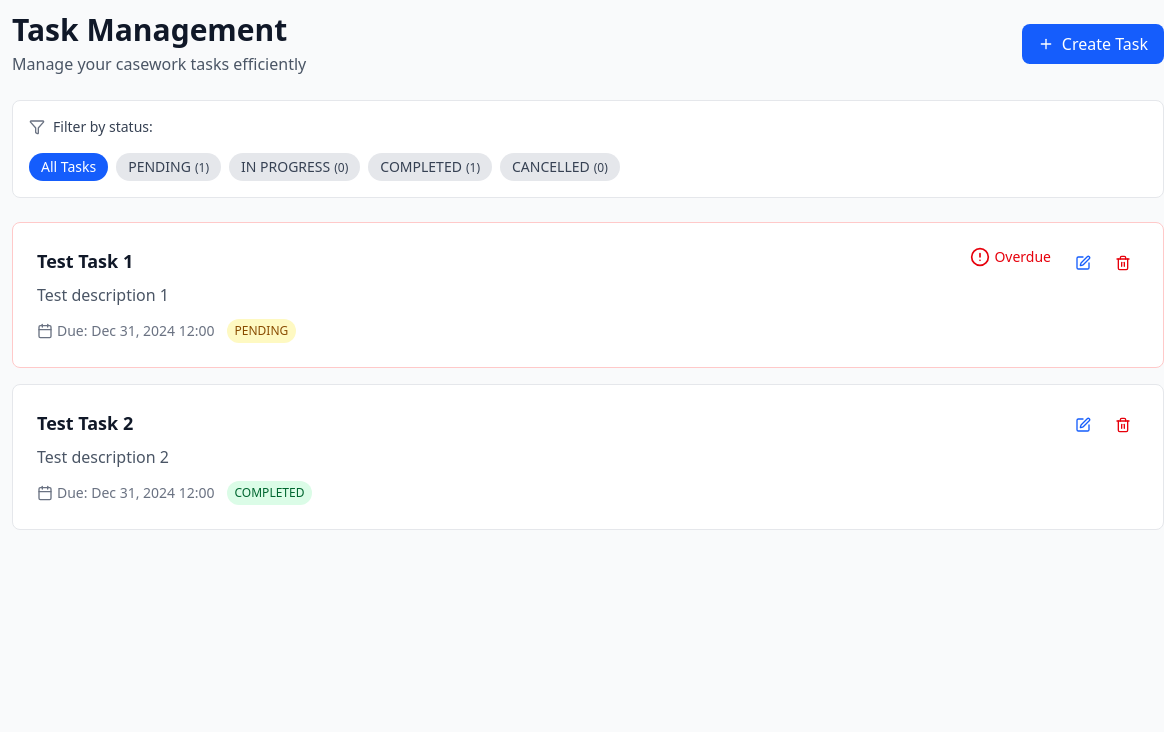
TaskList › filters tasks by status
The image size is (1164, 732).
Expected: the heading "Test Task 1" is shown, [37,247,133,275]
Click the button "COMPLETED(1)": (430, 167) [368,153,492,181]
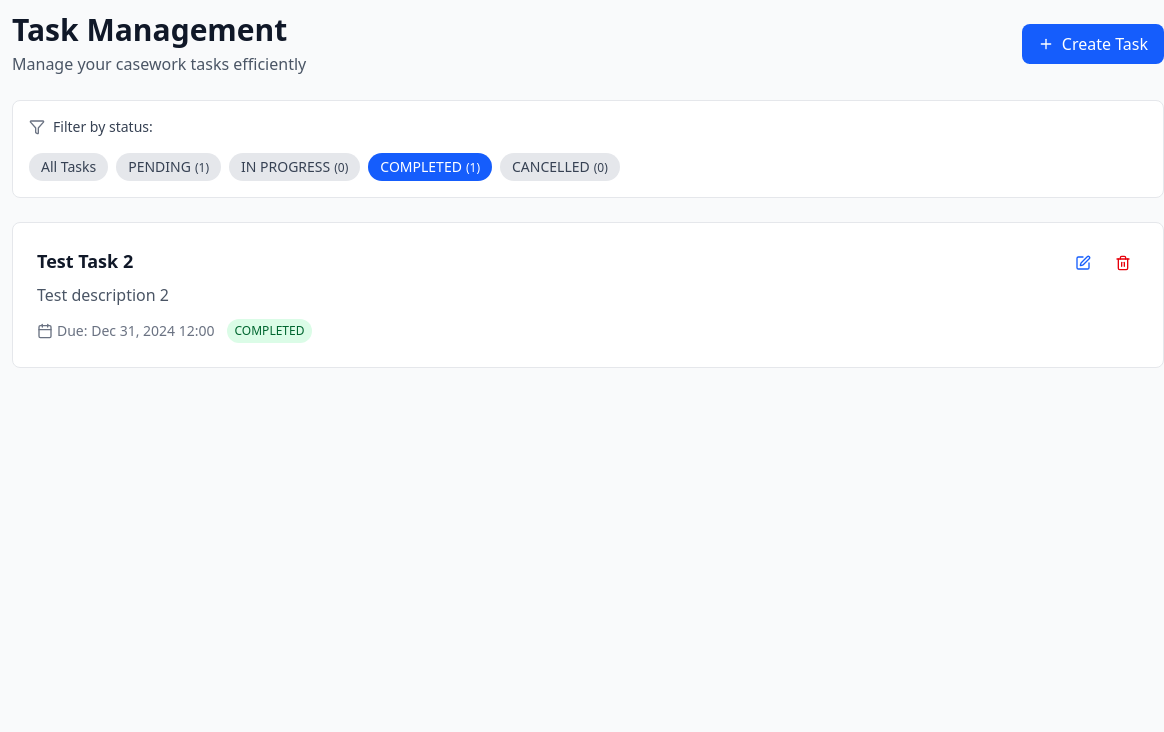
Expected: the heading "Test Task 2" is shown, [37,247,133,275]
Now the heading "Test Task 1" is gone
